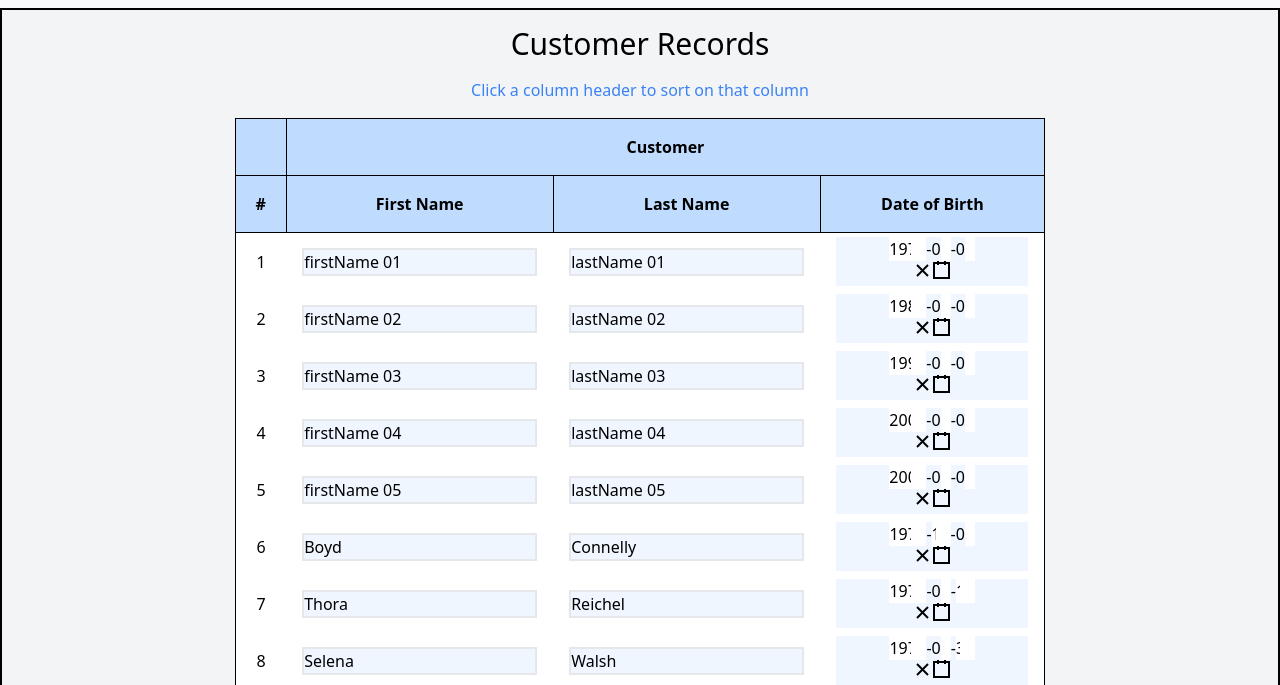
Test case: it should edit three fields › should handle empty last name value
Clear the 1st field named "lastName" at x=687, y=262, box [569,248,804,276]
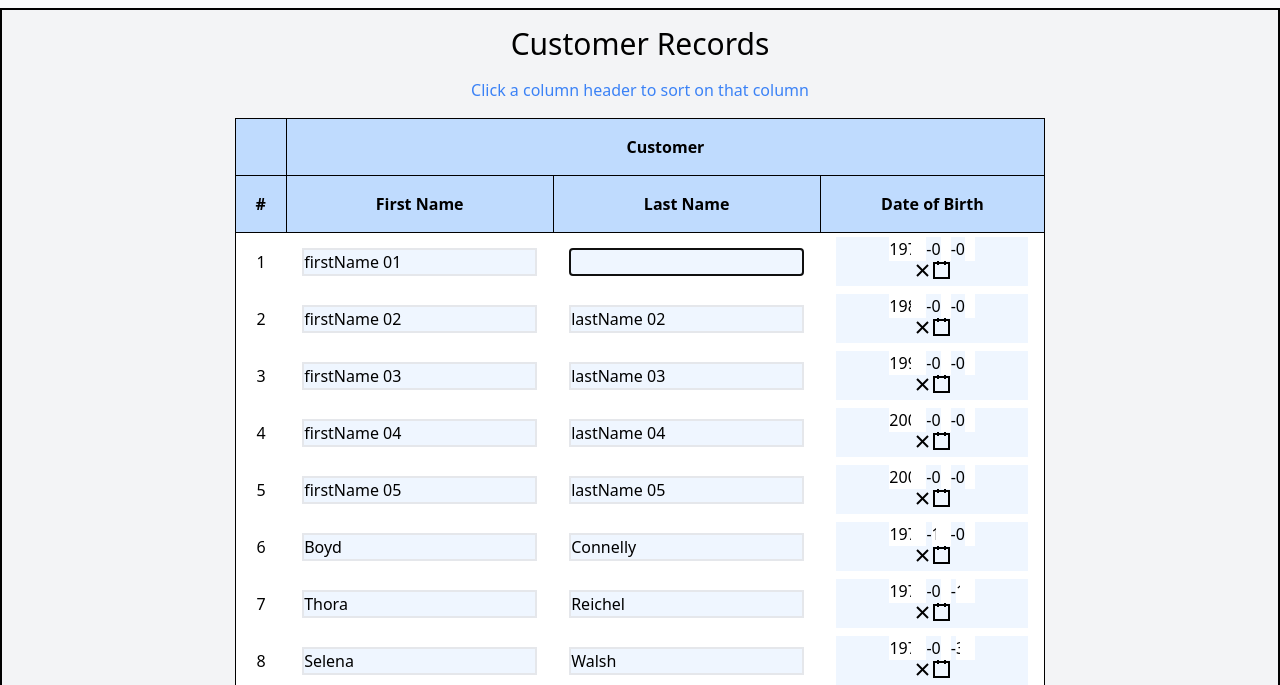
Press Tab
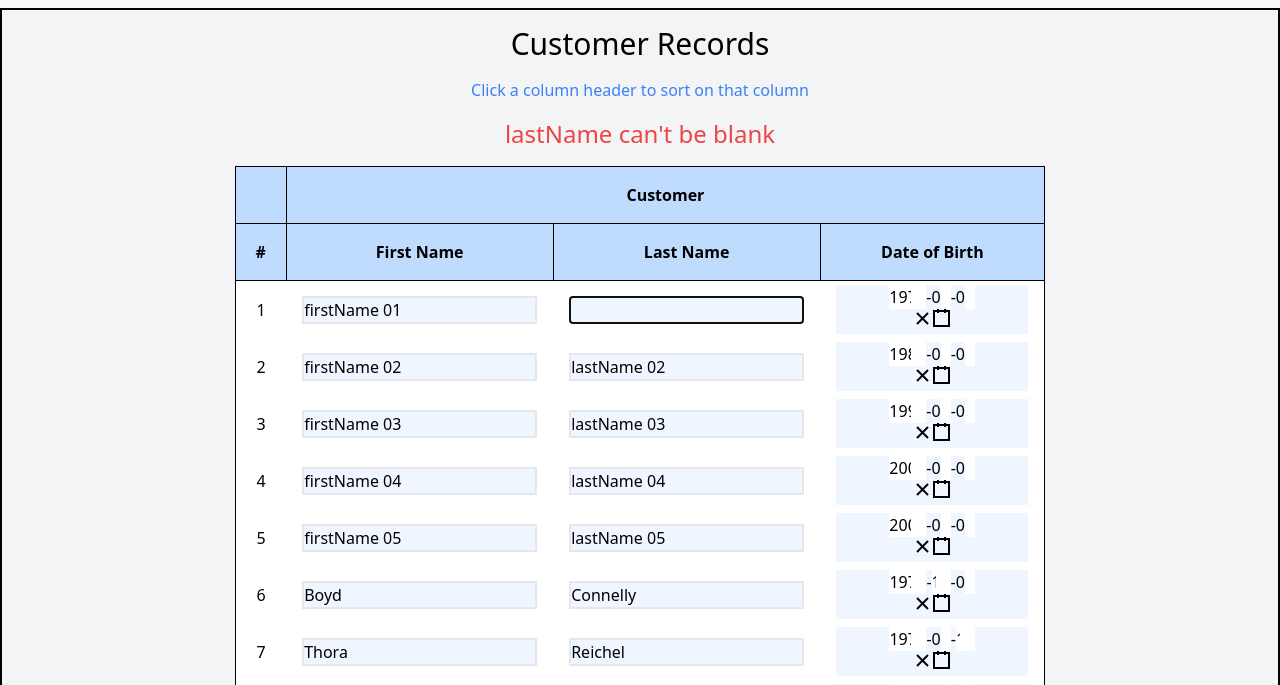
Check: the message named "flash-error-display" reads "lastName can't be blank", box [505,117,775,150]
